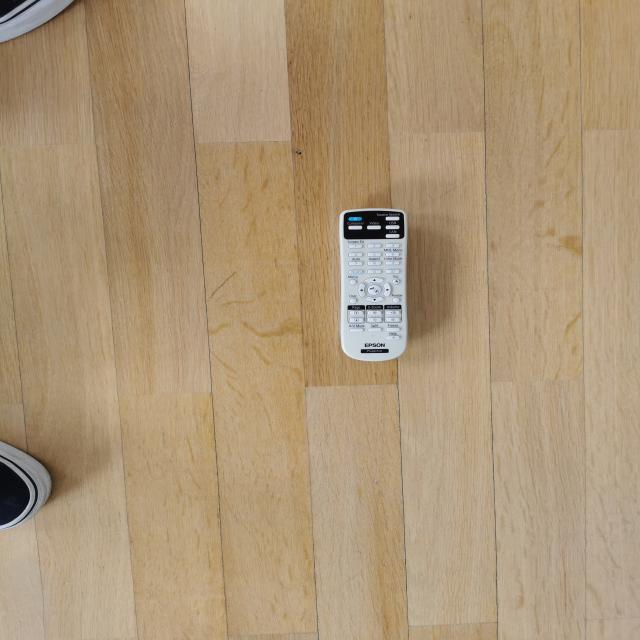remote: (332, 202, 416, 368)
